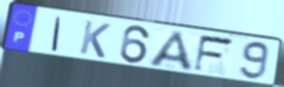6: (118, 25, 151, 65)
9: (236, 40, 271, 82)
A: (146, 30, 196, 74)
F: (191, 34, 237, 74)
I: (50, 15, 64, 53)
K: (78, 19, 113, 60)
